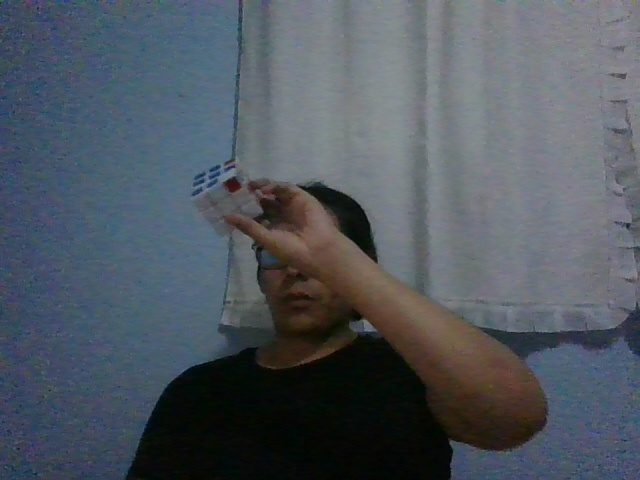rubik: (189, 156, 265, 238)
